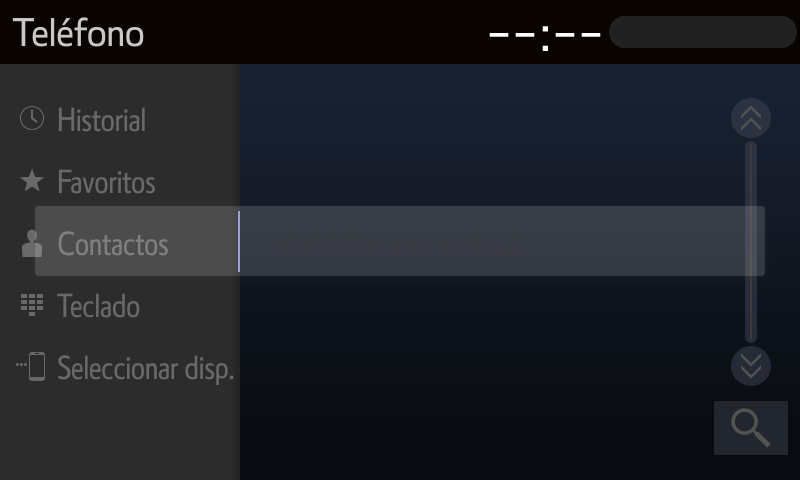untouchPart: (475, 10, 798, 51), (9, 349, 231, 389), (11, 11, 172, 56), (4, 287, 161, 333), (10, 222, 174, 266), (18, 102, 157, 142), (712, 397, 793, 459), (15, 164, 163, 194), (726, 344, 779, 389), (725, 98, 776, 137)
